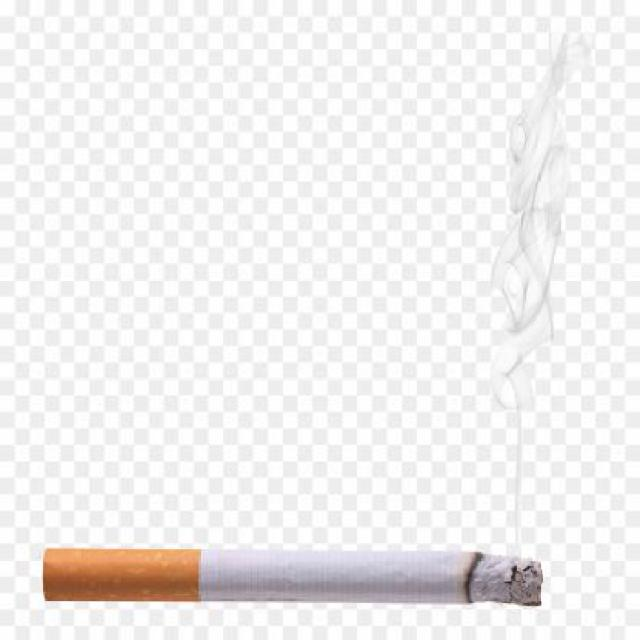cigarette: (8, 519, 549, 636)
